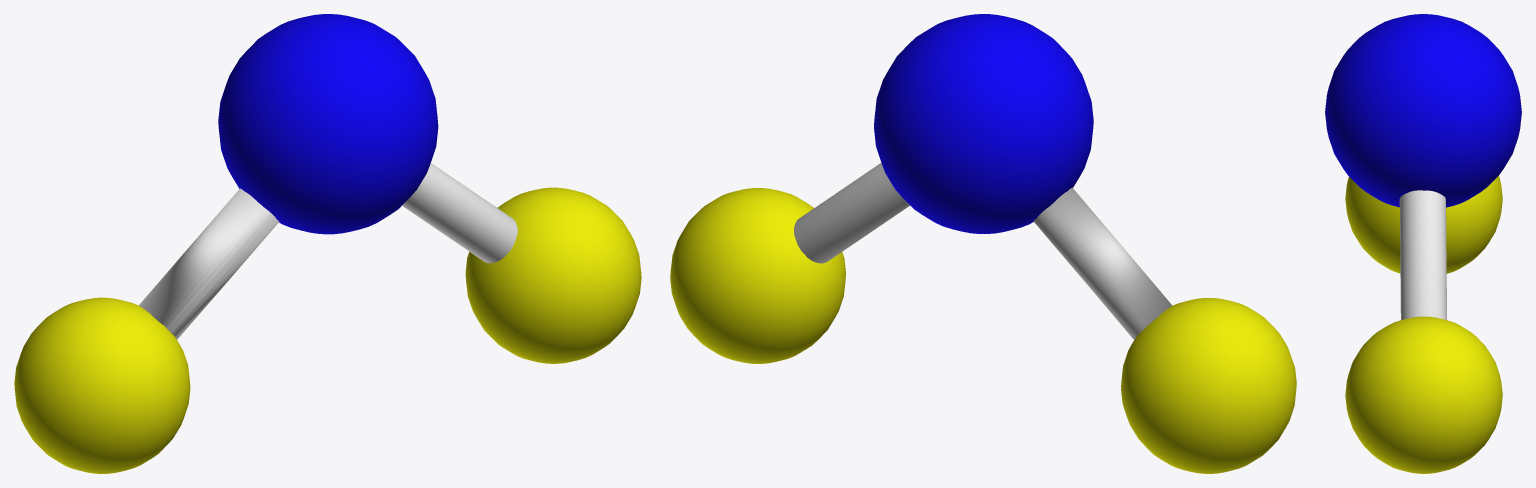
The model's file is CaCl2.fbx.
3 views of the same model, side by side, from view 1: azimuth 30°, elevation 25°; view 2: azimuth 150°, elevation 25°; view 3: azimuth 270°, elevation 25° (orthographic). The views are drawn at different scales.
Parts seen in each view (by area): view 1: Sphere.001, Sphere, Cylinder; view 2: Sphere.001, Sphere, Cylinder; view 3: Sphere, Sphere.001, Cylinder.
Boxes of the visible parts, box(x1,y1,x2,y2) form: Sphere.001: box(14, 187, 641, 473); Sphere: box(218, 14, 438, 234); Cylinder: box(139, 163, 517, 339); Sphere.001: box(670, 188, 1296, 473); Sphere: box(874, 14, 1093, 233); Cylinder: box(794, 163, 1171, 339); Sphere: box(1325, 14, 1521, 207); Sphere.001: box(1345, 176, 1502, 473); Cylinder: box(1399, 190, 1446, 319).
Bounding box in the file's own units: 632 × 387 × 200.
